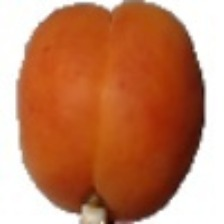apricot: (28, 8, 175, 202)
